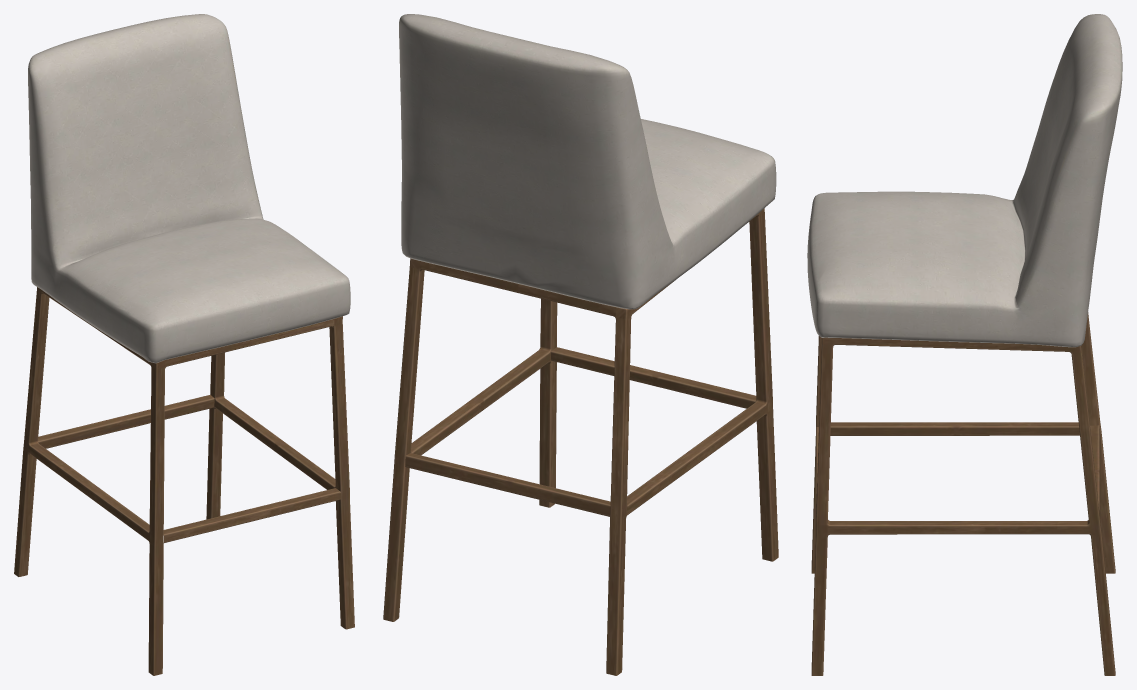
File: bar_stool_abo_B07HSB4WV6.glb
The picture shows the model from 3 angles, left to right: view 1: azimuth 30°, elevation 25°; view 2: azimuth 150°, elevation 25°; view 3: azimuth 270°, elevation 25°; orthographic projection. The views are drawn at different scales.
Visible parts, largest first — view 1: RootNode; view 2: RootNode; view 3: RootNode.
Part boxes in pixels (x1=…): RootNode: x1=14, y1=14, x2=354, y2=675; RootNode: x1=383, y1=14, x2=778, y2=675; RootNode: x1=807, y1=14, x2=1122, y2=675.
Bounding box in the file's own units: 0.4617 × 1.08 × 0.5465.
Materials: 1 (1 with a texture image).
